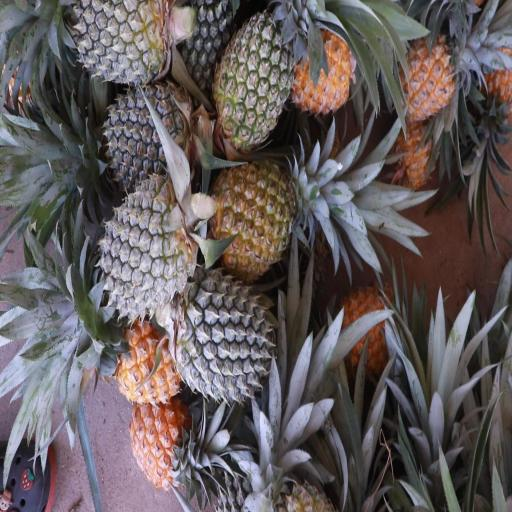------------------------------: (212, 159, 304, 272), (217, 21, 296, 147)
Pineapple - v8 v1: (107, 306, 181, 398), (341, 288, 397, 387), (127, 394, 191, 480), (397, 32, 458, 117), (291, 31, 354, 113)
